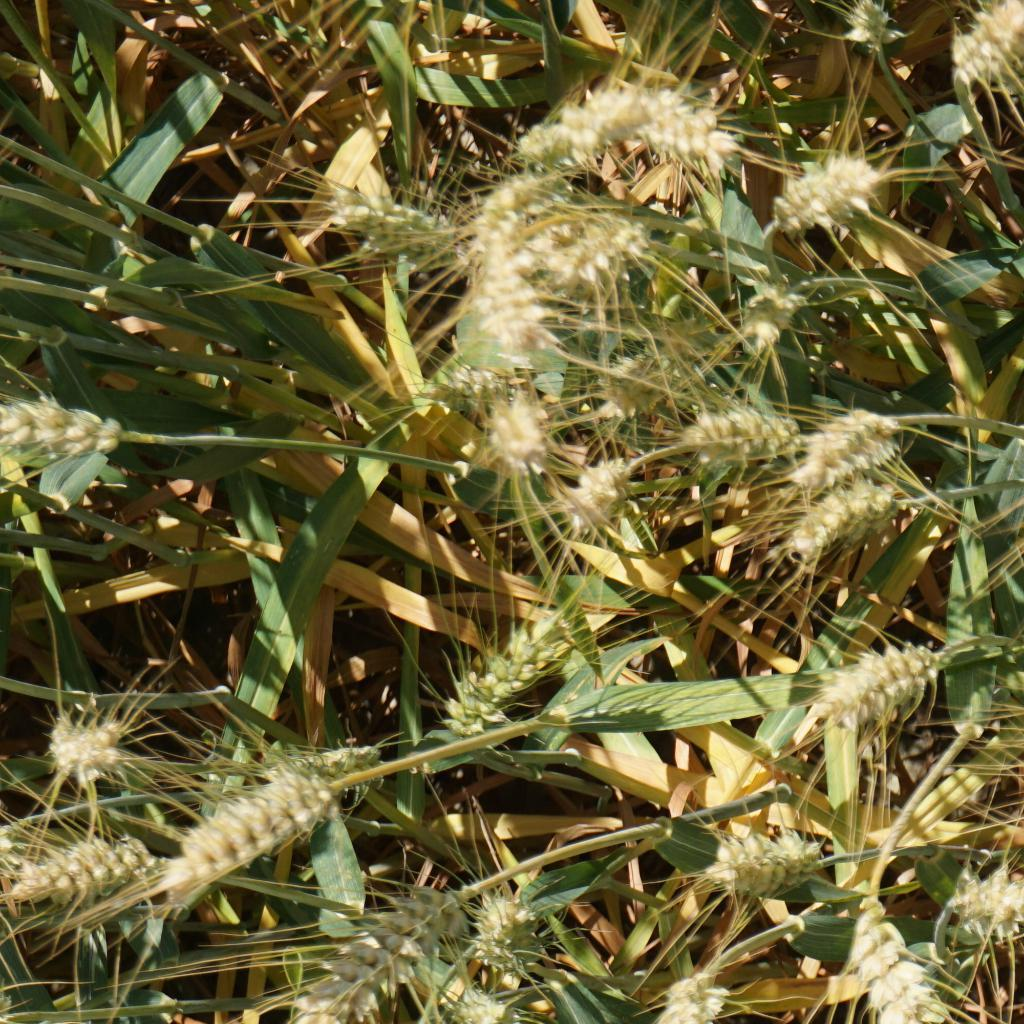0-0: (289, 878, 469, 1024), (153, 780, 344, 899), (434, 603, 585, 748), (323, 172, 466, 283), (837, 902, 963, 1024), (823, 633, 945, 753), (759, 150, 892, 238), (523, 82, 650, 166), (0, 393, 137, 465), (798, 402, 907, 488), (776, 483, 907, 552), (3, 842, 148, 899), (701, 828, 819, 896), (464, 257, 557, 343), (468, 172, 562, 257), (459, 894, 552, 975), (638, 98, 739, 172), (686, 404, 797, 468), (583, 353, 669, 431), (945, 0, 1024, 82), (480, 387, 556, 471), (244, 741, 394, 782), (40, 704, 123, 778), (565, 450, 640, 531), (560, 218, 650, 284), (643, 959, 734, 1024), (416, 353, 504, 419), (950, 863, 1024, 937), (647, 310, 731, 368), (730, 287, 794, 351), (837, 0, 897, 58)
